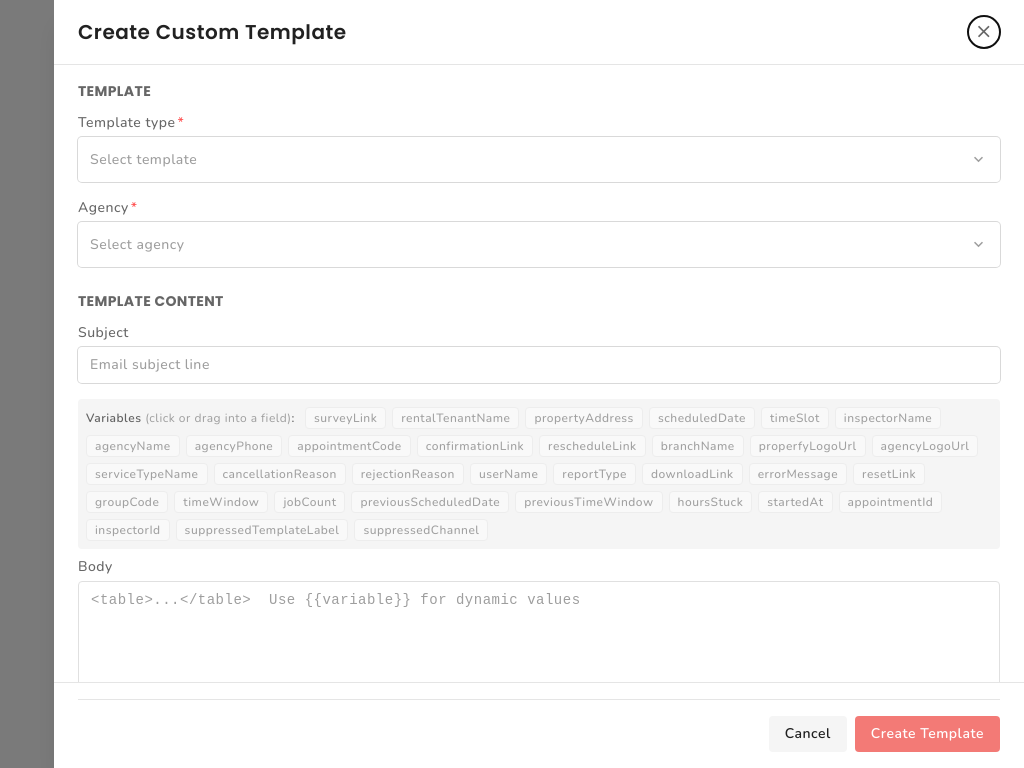
Test: TemplateCreateDrawer › disables Send Test until an agency is selected (global role)
The image size is (1024, 768).
Click the button with aria-label "Template type": (144, 159) top-left (78, 137), bottom-right (1000, 182)
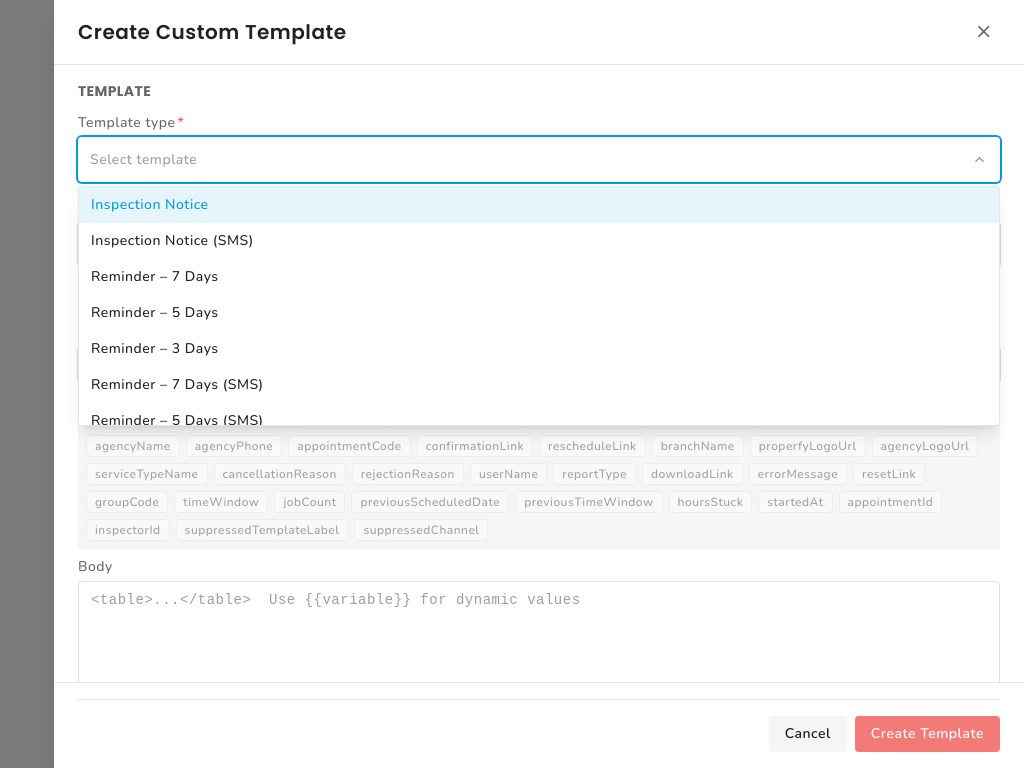
Click the option "Inspection Notice": (150, 204) top-left (79, 187), bottom-right (999, 223)
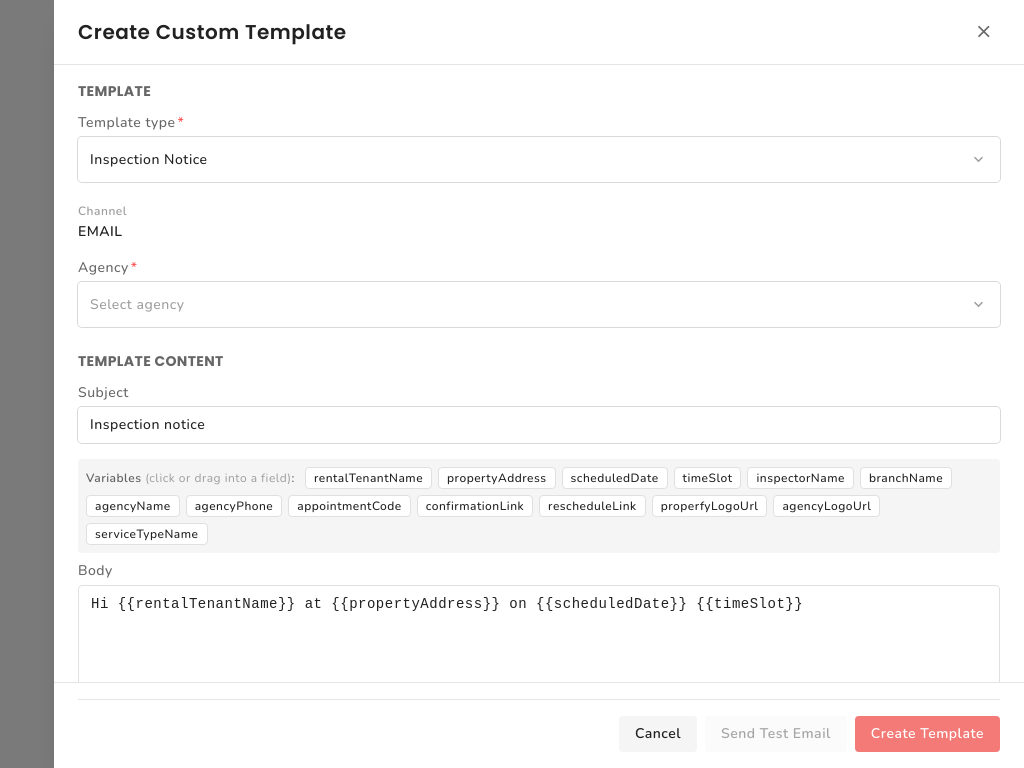
Result: the button "Send Test Email" is disabled at top-left (705, 716), bottom-right (847, 752)
Click the button "Select agency": (137, 304) top-left (78, 282), bottom-right (1000, 327)
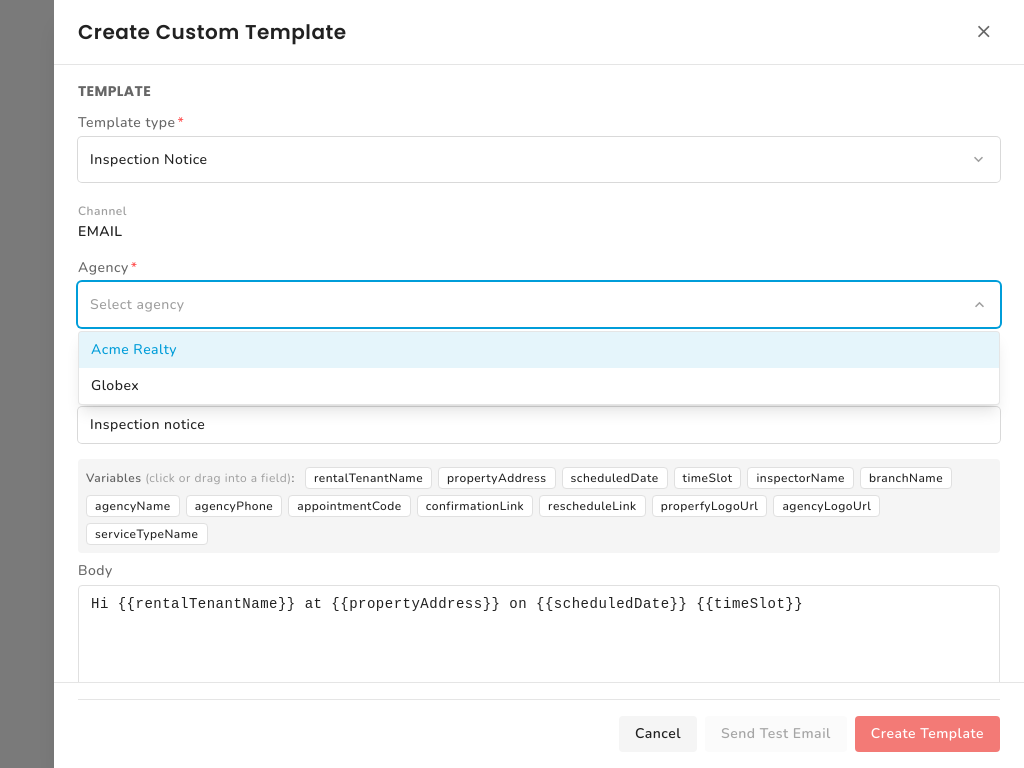
Click the option "Acme Realty": (134, 350) top-left (79, 332), bottom-right (999, 368)
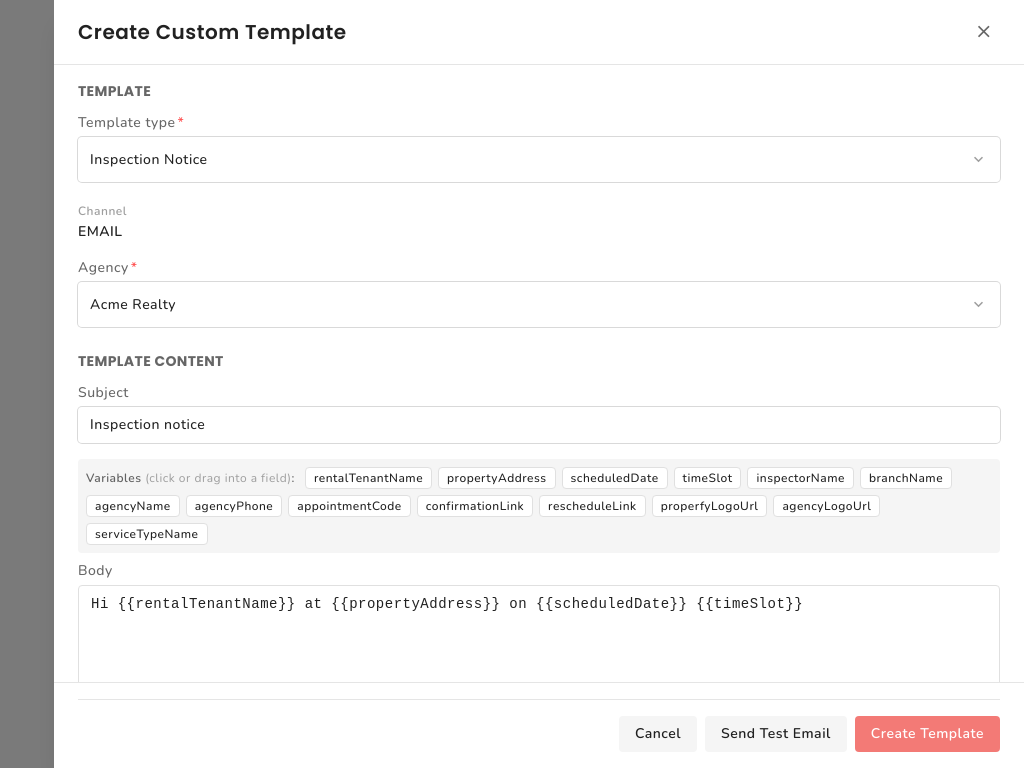
Result: the button "Send Test Email" is enabled at top-left (705, 716), bottom-right (847, 752)
